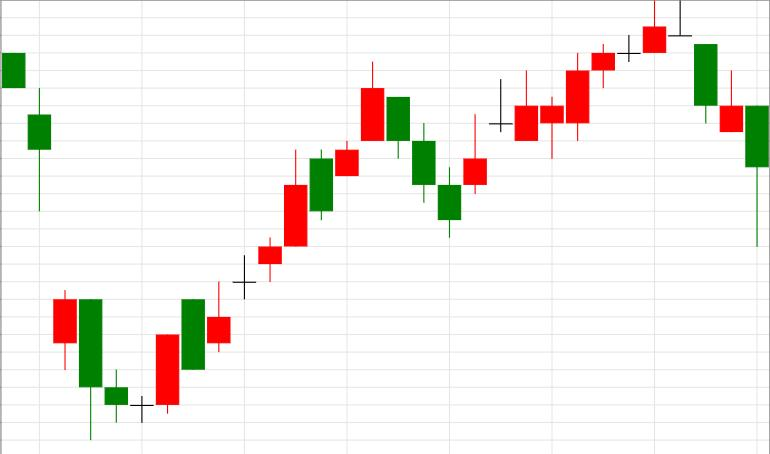morning_star_rise: (1, 52, 179, 439)
three_black_crows_fall: (207, 62, 460, 353)
